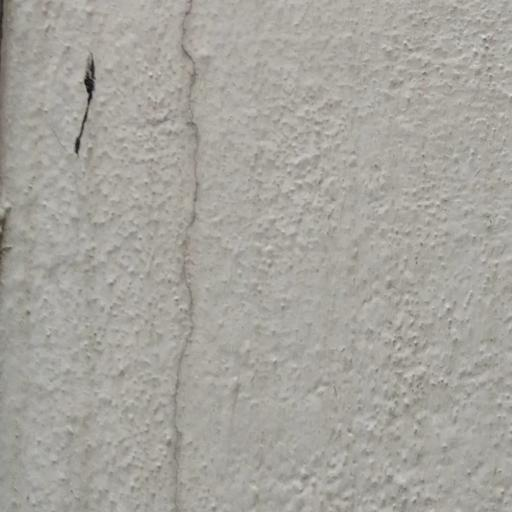minor_crack: (156, 0, 199, 512)
